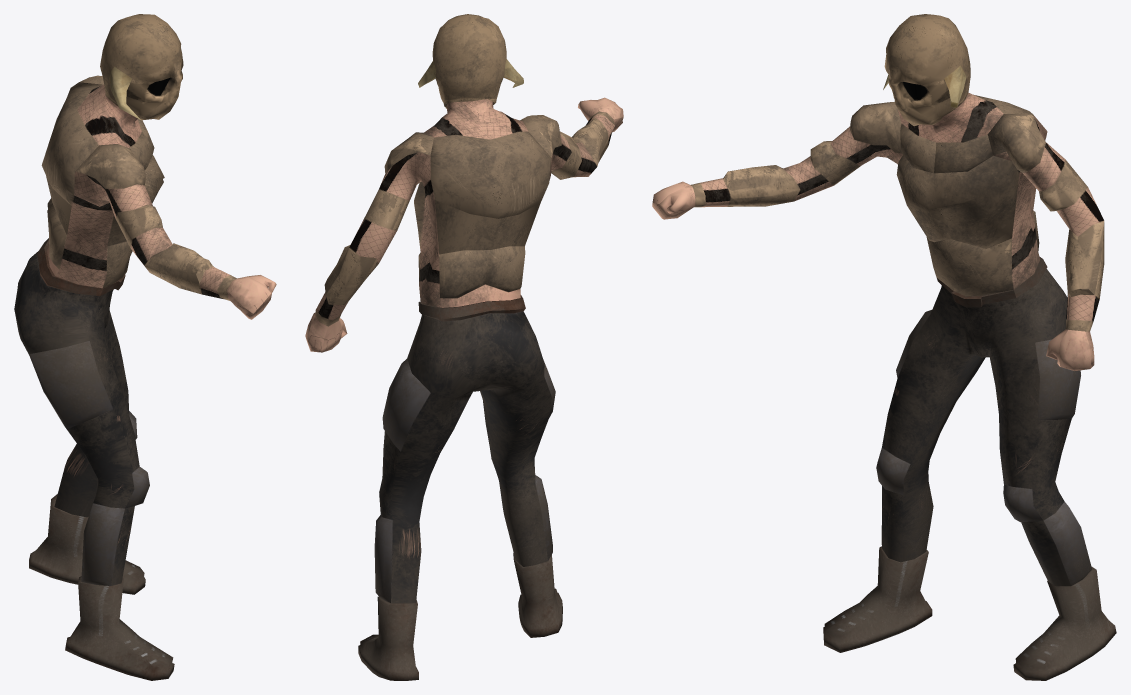
Rendered from Anim_interruptor_npc1.0026.obj.
The picture shows the model from 3 angles, left to right: view 1: azimuth 30°, elevation 25°; view 2: azimuth 150°, elevation 25°; view 3: azimuth 270°, elevation 25°; orthographic projection. The views are drawn at different scales.
Visible parts, largest first — view 1: NPC2; view 2: NPC2; view 3: NPC2.
Boxes of the visible parts, bbox=[...] form: NPC2: bbox=[14, 14, 276, 680]; NPC2: bbox=[305, 14, 623, 680]; NPC2: bbox=[652, 14, 1116, 680].
Bounding box in the file's own units: 2.93 × 9.31 × 6.11.
